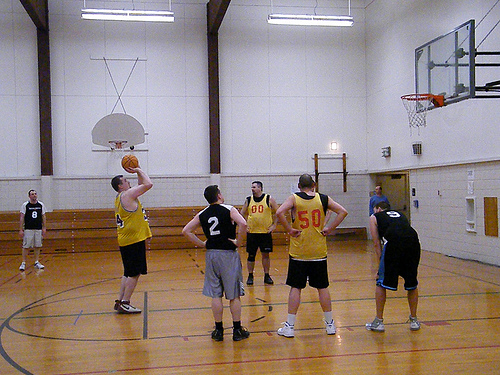basketball: (120, 154, 138, 172)
